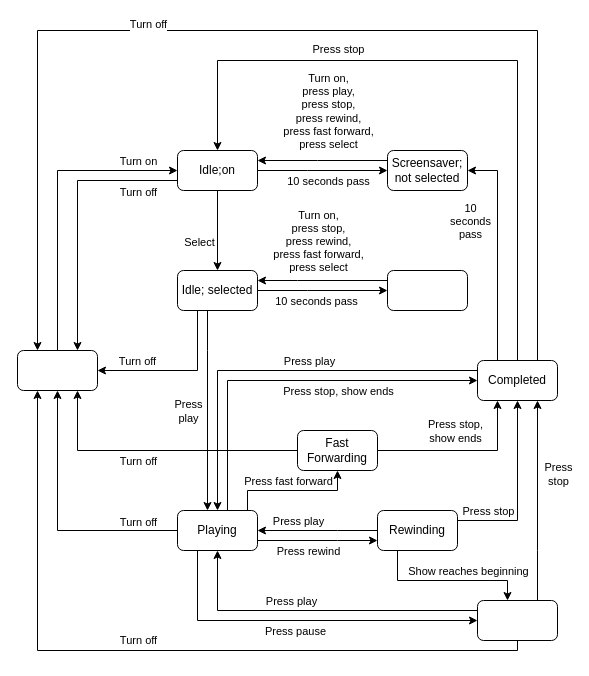
Image size: 589x676. Some labels were removed from this diagram. The centre of each missing label's shape, as x and y in pixels:
Off: (x=57, y=370)
Paused: (x=517, y=620)
Screensaver; selected: (x=427, y=290)
